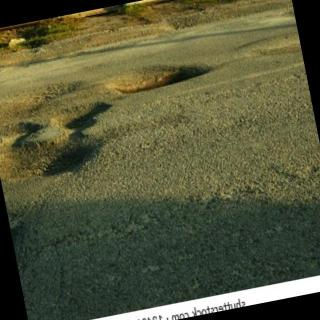pothole: (1, 82, 116, 180), (108, 66, 207, 94), (235, 26, 303, 56)
